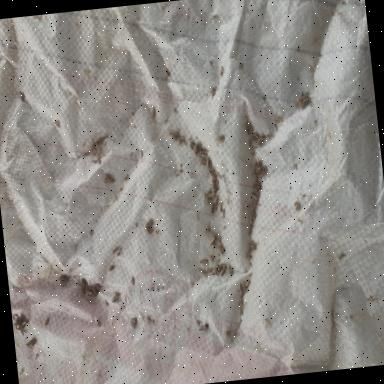pbw: (198, 324, 209, 332), (264, 318, 272, 328), (219, 266, 227, 276), (209, 202, 215, 214), (150, 106, 156, 118), (200, 159, 210, 166), (200, 260, 208, 268), (27, 339, 36, 346), (208, 237, 216, 244), (244, 280, 251, 288), (206, 194, 213, 202), (219, 201, 224, 212), (214, 196, 219, 206), (112, 295, 118, 303), (249, 213, 253, 225), (177, 136, 185, 142), (218, 247, 225, 253), (44, 318, 50, 325), (216, 172, 222, 179), (252, 194, 258, 201), (239, 282, 243, 292), (213, 196, 218, 204), (131, 277, 135, 286), (228, 269, 234, 275), (112, 248, 118, 254), (302, 100, 308, 106), (266, 134, 274, 138), (212, 244, 216, 252), (210, 16, 218, 20), (276, 118, 284, 122), (205, 226, 210, 232), (204, 224, 209, 230), (274, 124, 278, 131), (118, 248, 122, 254), (208, 272, 214, 276), (20, 370, 24, 374), (213, 268, 217, 272), (251, 134, 255, 136), (210, 258, 214, 260)
